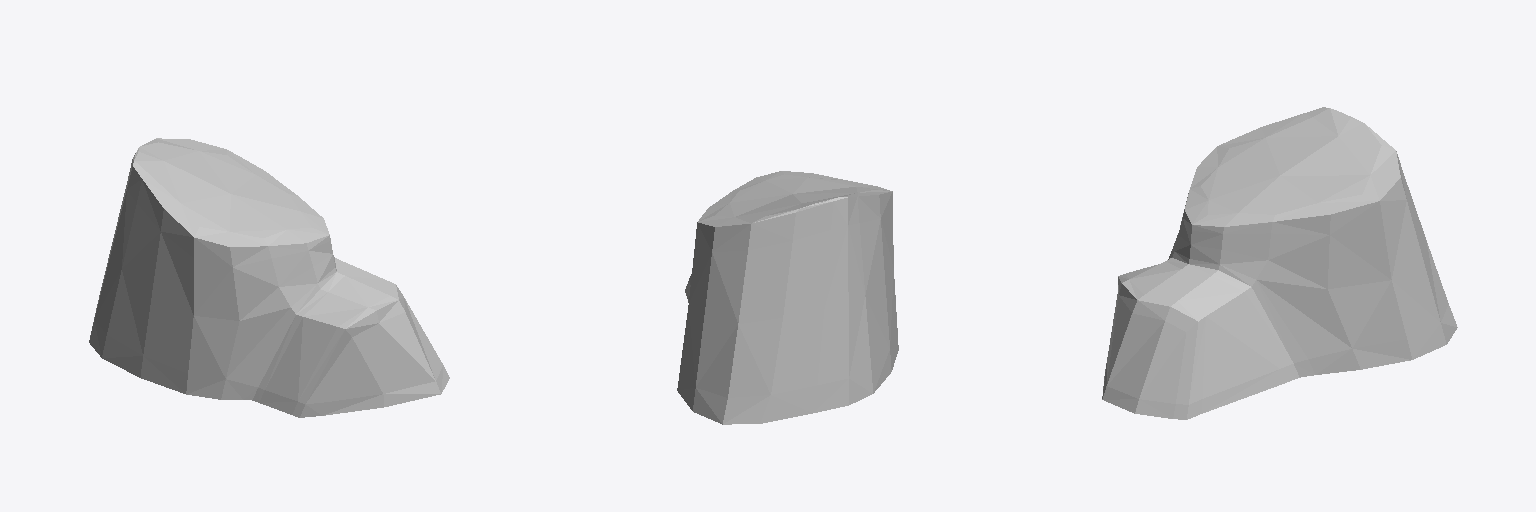
Rendered from shitou.obj.
3 views of the same model, side by side, from view 1: azimuth 30°, elevation 25°; view 2: azimuth 150°, elevation 25°; view 3: azimuth 270°, elevation 25° (orthographic).
Parts seen in each view (by area): view 1: shitou:pCube1SmoothProxyGroup shitou:pCube2 shitou:polySurface2 ; view 2: shitou:pCube1SmoothProxyGroup shitou:pCube2 shitou:polySurface2 ; view 3: shitou:pCube1SmoothProxyGroup shitou:pCube2 shitou:polySurface2 .
Part boxes in pixels (bbox=[...]): shitou:pCube1SmoothProxyGroup shitou:pCube2 shitou:polySurface2 : bbox=[89, 138, 449, 417]; shitou:pCube1SmoothProxyGroup shitou:pCube2 shitou:polySurface2 : bbox=[677, 171, 898, 424]; shitou:pCube1SmoothProxyGroup shitou:pCube2 shitou:polySurface2 : bbox=[1102, 107, 1457, 419].
Bounding box in the file's own units: 10.81 × 8.03 × 12.84.